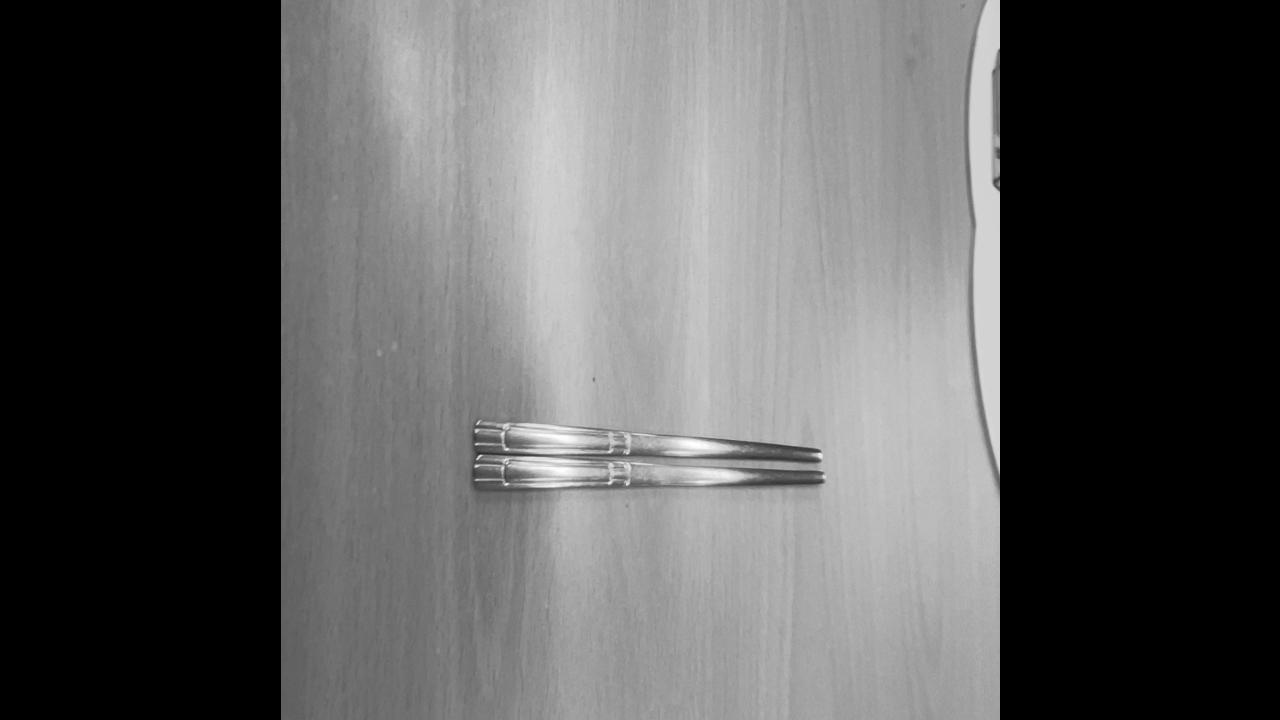chopstick: (467, 414, 829, 498)
